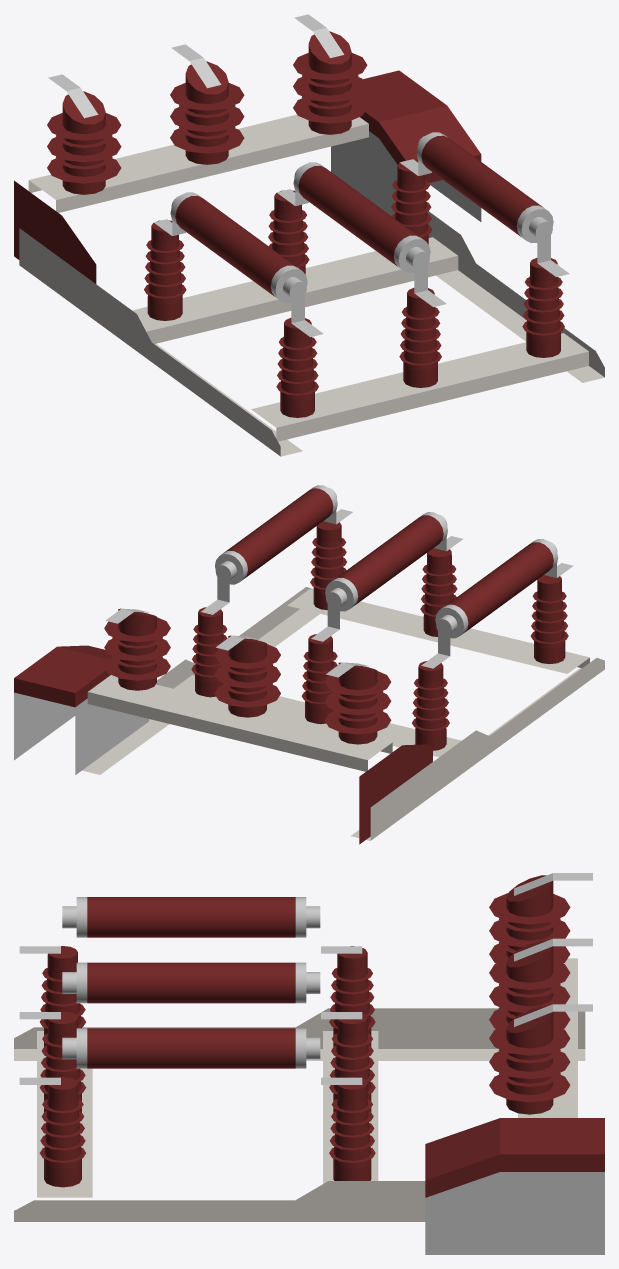
File: LBS.gltf
3 renders of one model, top to bottom at view 1: azimuth 30°, elevation 25°; view 2: azimuth 150°, elevation 25°; view 3: azimuth 270°, elevation 25°, orthographic. The views are drawn at different scales.
Parts seen in each view (by area): view 1: Circle071, Rectangle171, Circle073, Line012; view 2: Circle071, Rectangle171, Circle073, Line012; view 3: Circle071, Rectangle171, Circle073, Line012.
Part boxes in pixels (x1,y1,x2,y2): Circle071: [14, 31, 564, 417]; Rectangle171: [19, 114, 604, 456]; Circle073: [170, 131, 553, 303]; Line012: [48, 14, 569, 337]; Circle071: [14, 488, 568, 844]; Rectangle171: [82, 587, 604, 840]; Circle073: [14, 485, 558, 774]; Line012: [105, 509, 573, 677]; Circle071: [39, 875, 604, 1197]; Rectangle171: [14, 958, 585, 1221]; Circle073: [62, 897, 604, 1254]; Line012: [19, 873, 592, 1084].
Bounding box in the file's own units: 0.8197 × 0.3564 × 0.9875.
